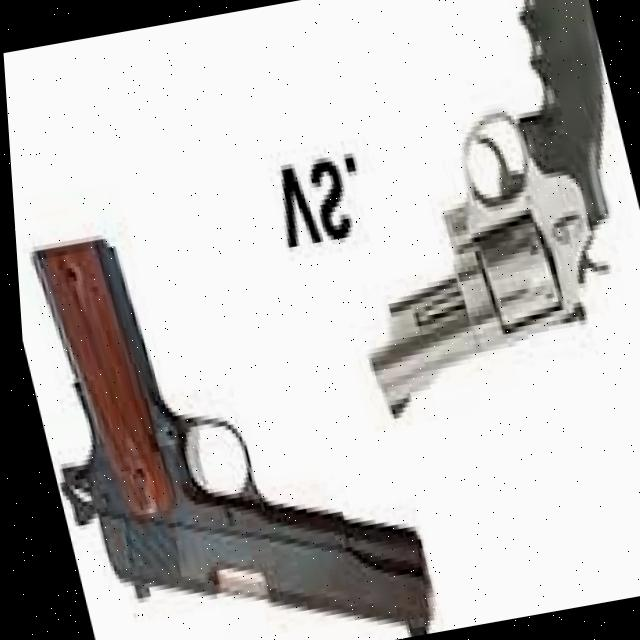pistol: (10, 200, 434, 640), (282, 0, 640, 419)
